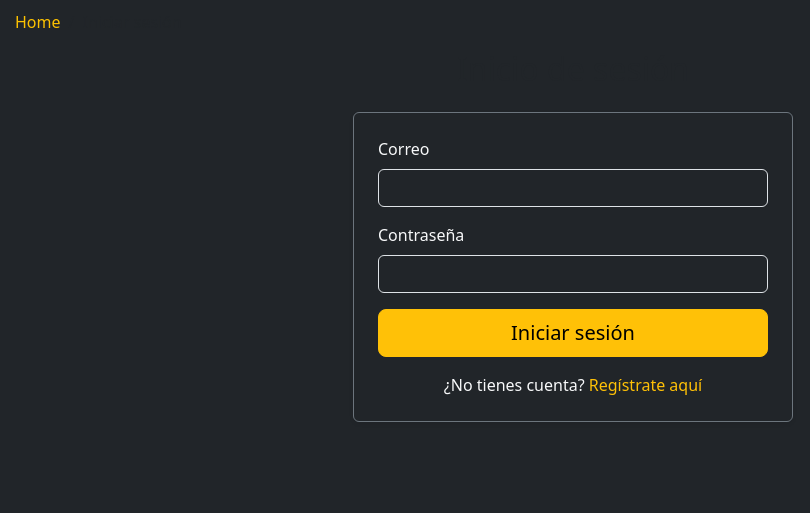
Test: Login - autenticación y redirección › muestra una alerta si las credenciales son incorrectas
The width and height of the screenshot is (810, 513).
Type "nadie@correo.cl" into the field labelled "Correo" at coordinates (573, 188), box [378,169,768,207]
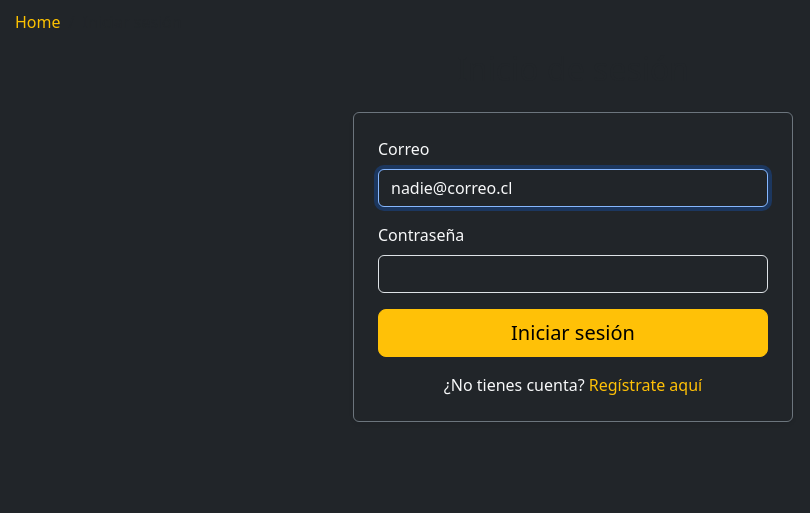
Type "mala" into the password field labelled "Contraseña" at coordinates (573, 274), box [378,255,768,293]
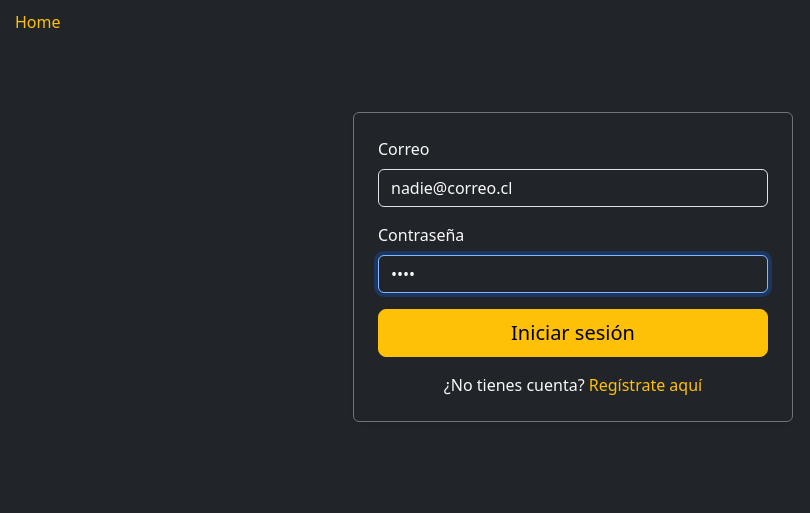
Click the button "Iniciar sesión" at coordinates (573, 333), box [378,309,768,357]
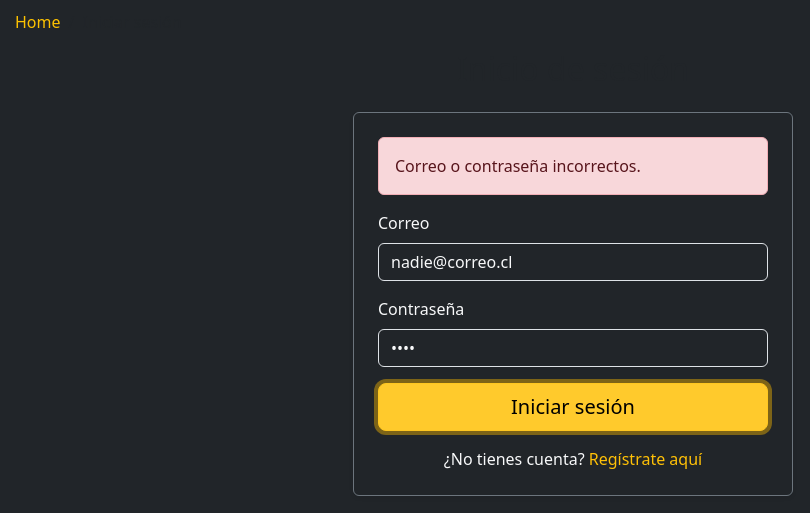
expect the message reads "Correo o contraseña incorrectos.": met, box [395,155,641,177]
